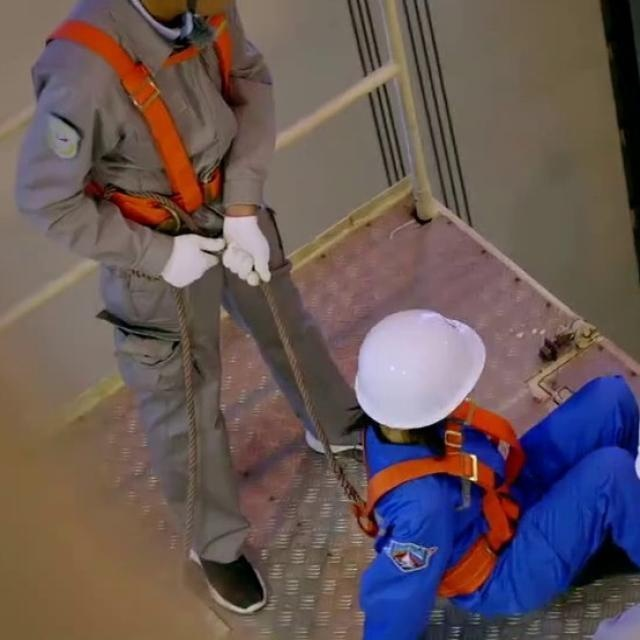Arnes_seguridad: (34, 3, 246, 236), (336, 386, 528, 601)
